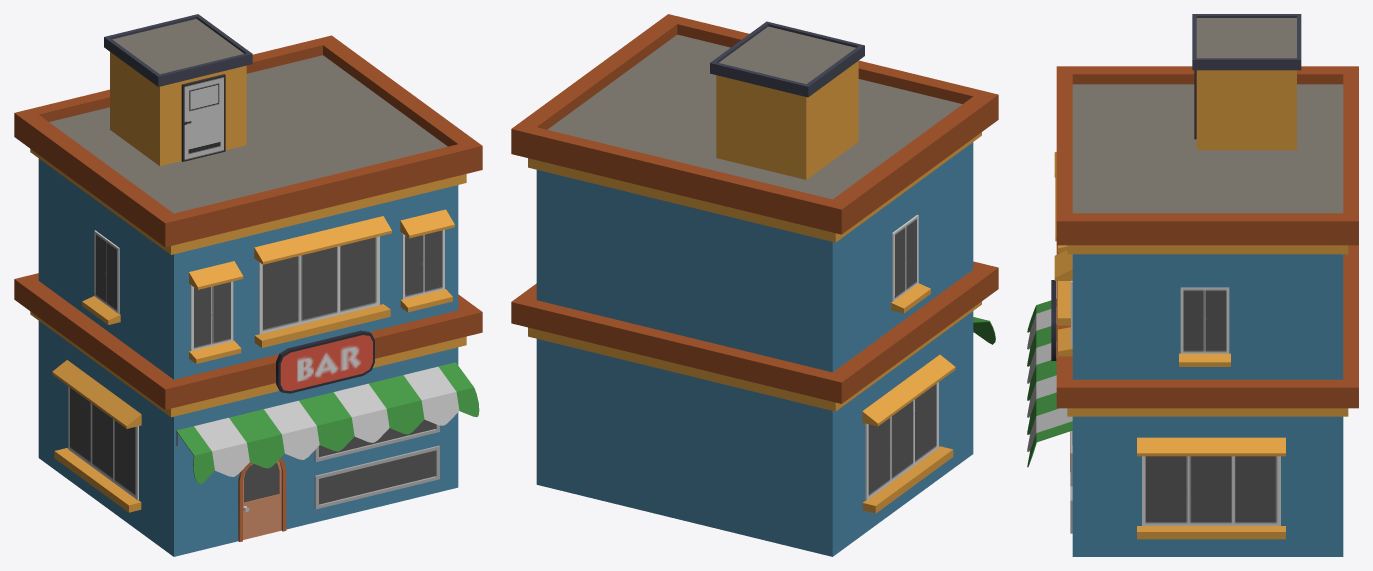
Rendered from bar01_color02.fbx.
3 renders of one model, left to right at view 1: azimuth 30°, elevation 25°; view 2: azimuth 150°, elevation 25°; view 3: azimuth 270°, elevation 25°, orthographic. The views are drawn at different scales.
Visible parts, largest first — view 1: bar01_color02; view 2: bar01_color02; view 3: bar01_color02.
Part boxes in pixels (x1,y1,x2,y2): bar01_color02: (14,14,482,556); bar01_color02: (511,14,998,556); bar01_color02: (1027,14,1358,556).
Size of the model in its own units: 932 by 1193 by 842.
